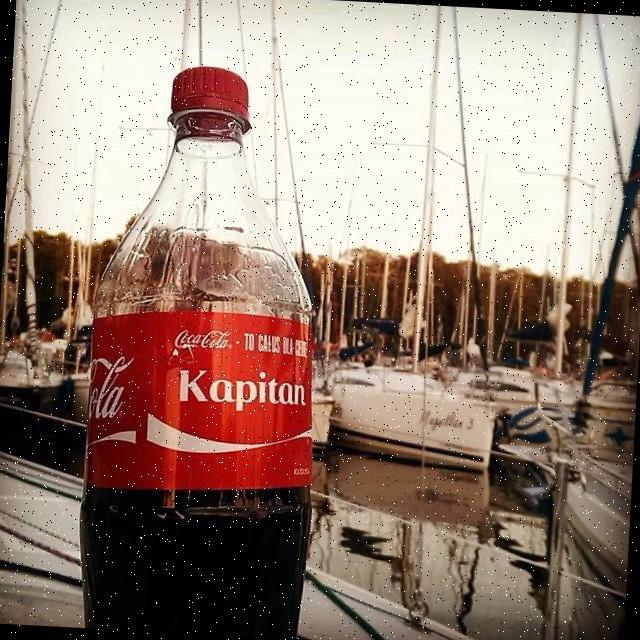coca-cola: (73, 60, 335, 640)
